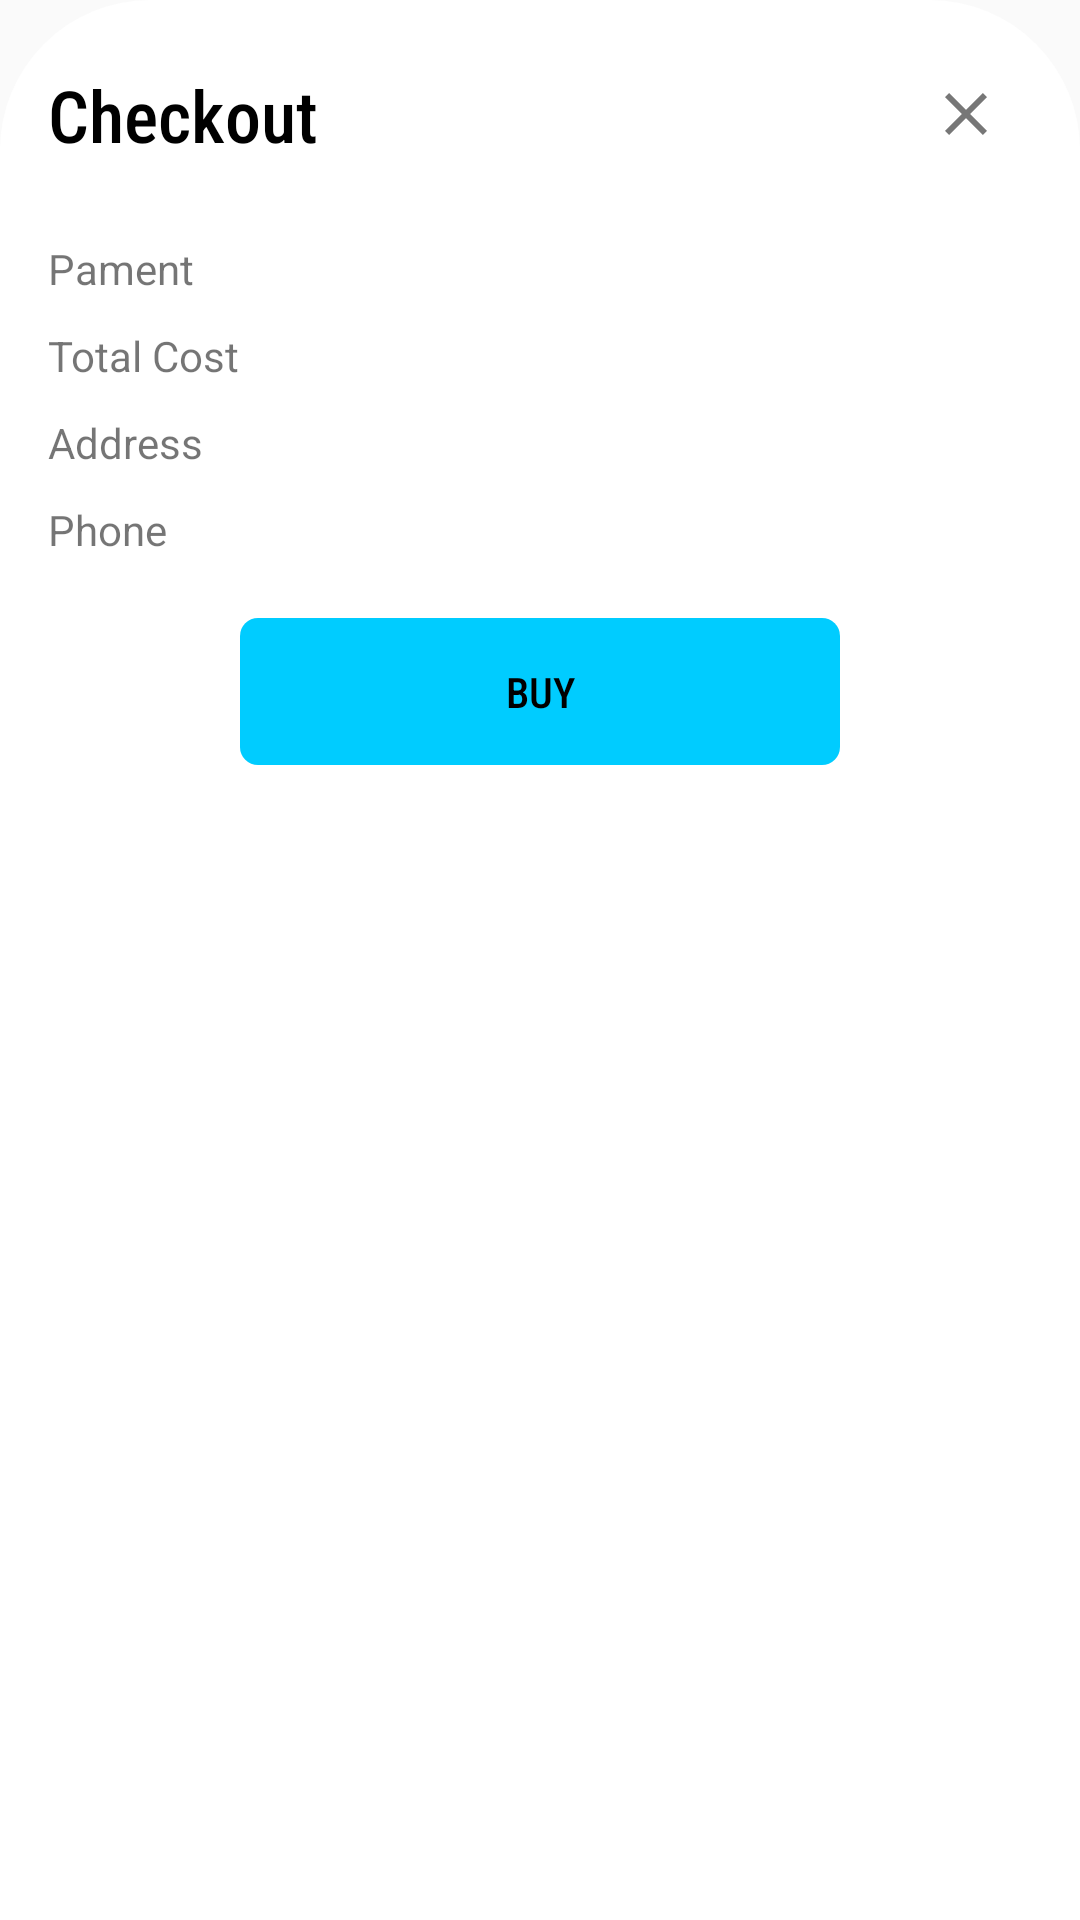

Screen size 1080px×1920px. Icon name, then its box in pixels as (x1, y1, x2, y2):
close: (945, 93, 987, 135)
